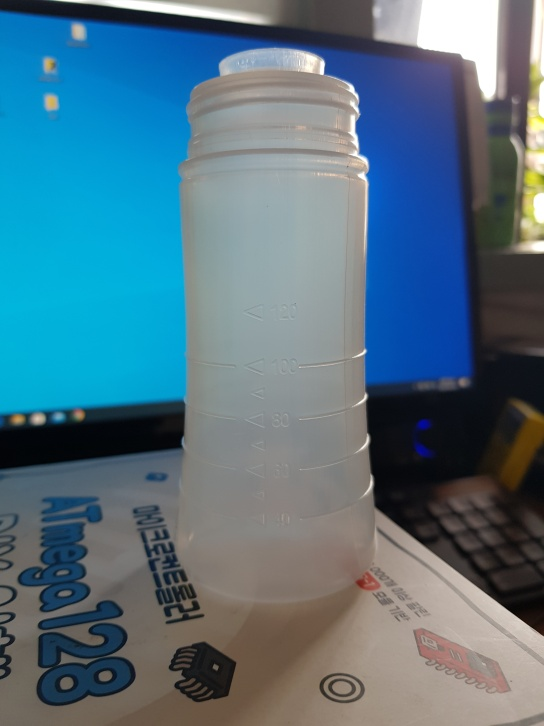Plastic: (172, 43, 377, 606)
